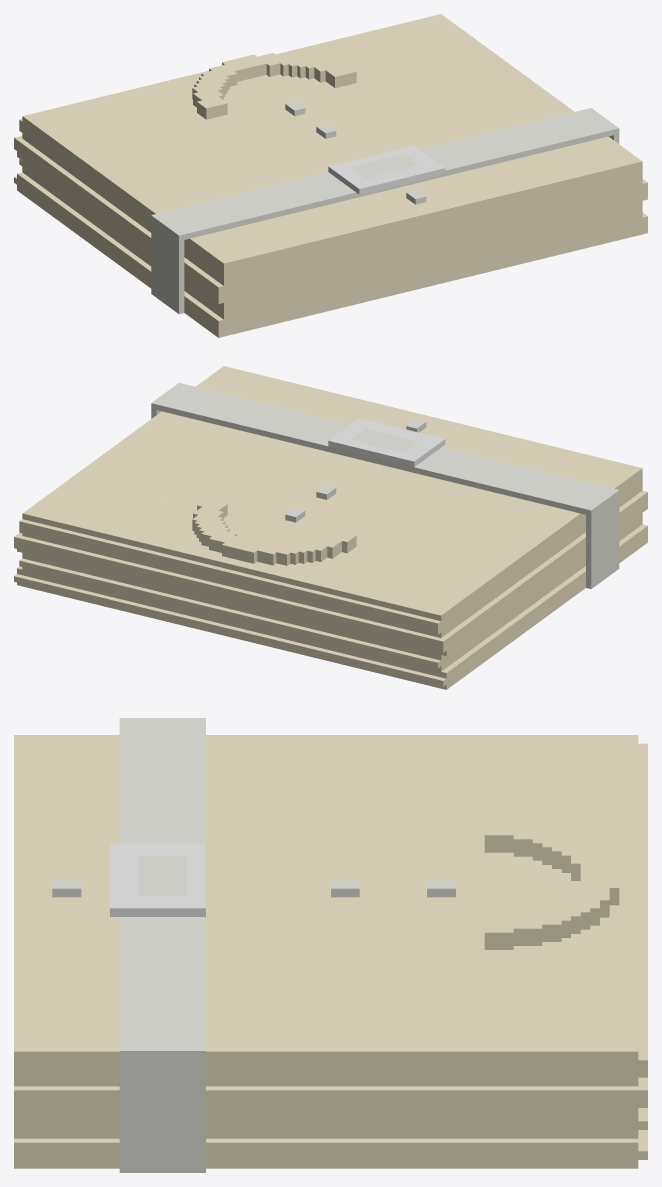
The model's file is kittel.glb.
The picture shows the model from 3 angles, top to bottom: view 1: azimuth 30°, elevation 25°; view 2: azimuth 150°, elevation 25°; view 3: azimuth 270°, elevation 25°; orthographic projection. The views are drawn at different scales.
Parts seen in each view (by area): view 1: kittel:compound; view 2: kittel:compound; view 3: kittel:compound.
Boxes of the visible parts, <box> form: kittel:compound: <box>14,14,647,337</box>; kittel:compound: <box>14,366,647,689</box>; kittel:compound: <box>14,718,647,1172</box>.
Bounding box in the file's own units: 0.328 × 0.06 × 0.264.
